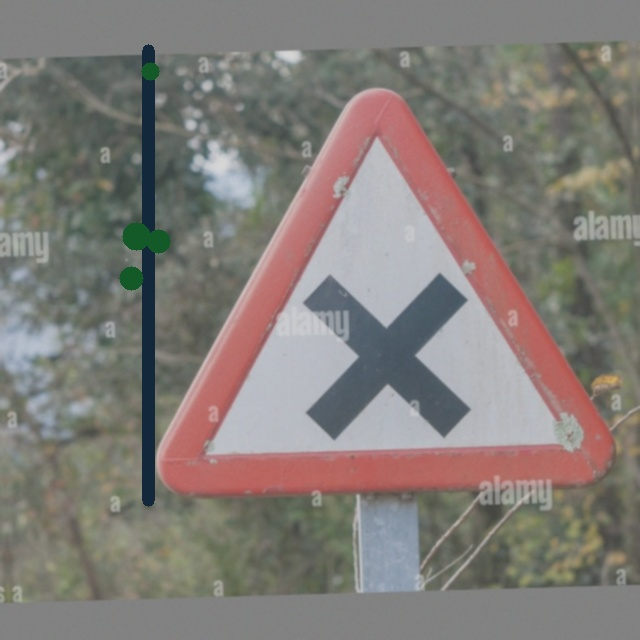Cross_Road: (154, 81, 613, 497)
